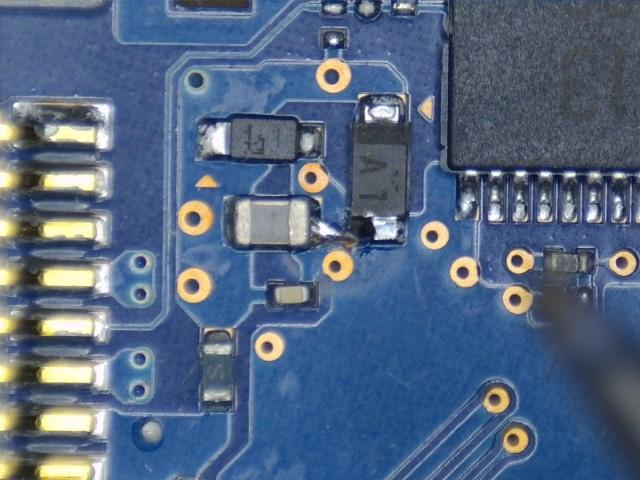Short_circuit: (289, 197, 398, 250)
